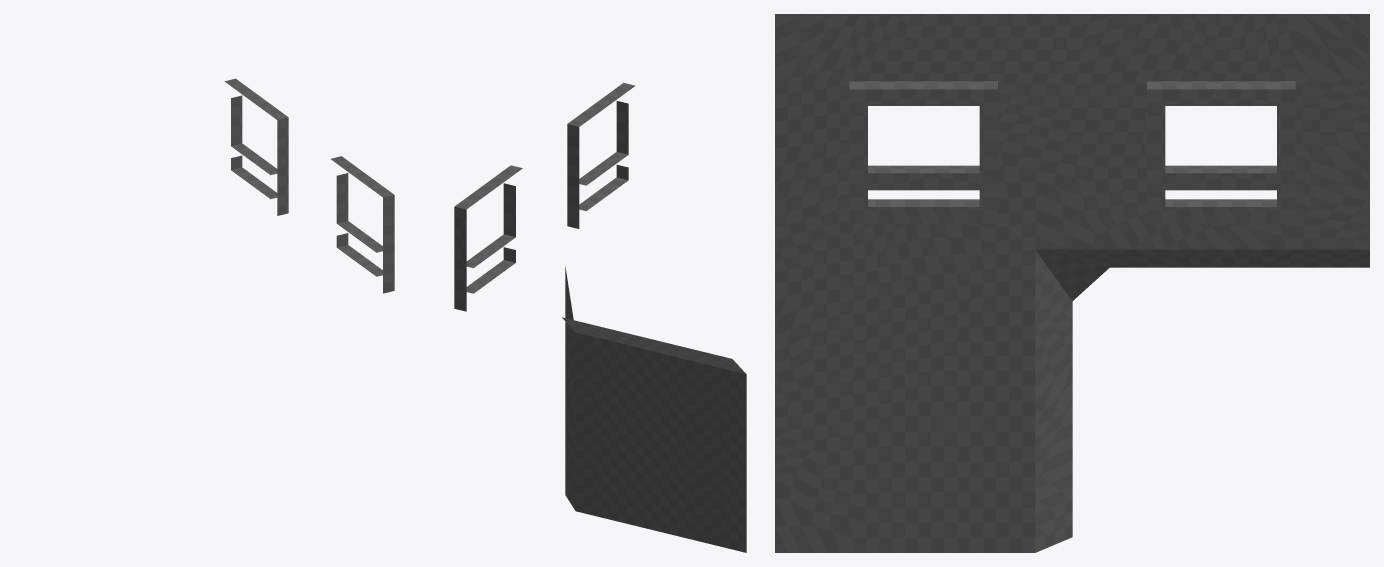
3 renders of one model, left to right at view 1: azimuth 30°, elevation 25°; view 2: azimuth 150°, elevation 25°; view 3: azimuth 270°, elevation 25°, orthographic. The views are drawn at different scales.
Visible parts, largest first — view 1: 2; view 2: 2; view 3: 2.
Part boxes in pixels (x1,y1,x2,y2): 2: (224, 78, 394, 293); 2: (454, 82, 746, 552); 2: (775, 14, 1369, 552).
Size of the model in its own units: 2.12 by 4 by 4.
2 materials, 2 textured.
